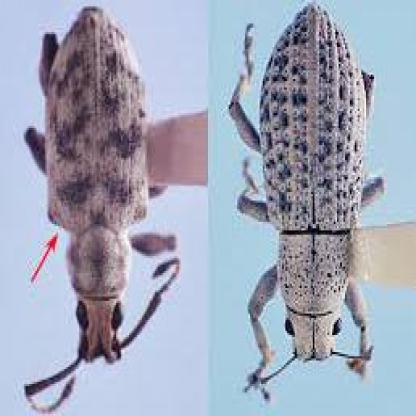ash weevil: (227, 4, 387, 383), (21, 9, 183, 364)
